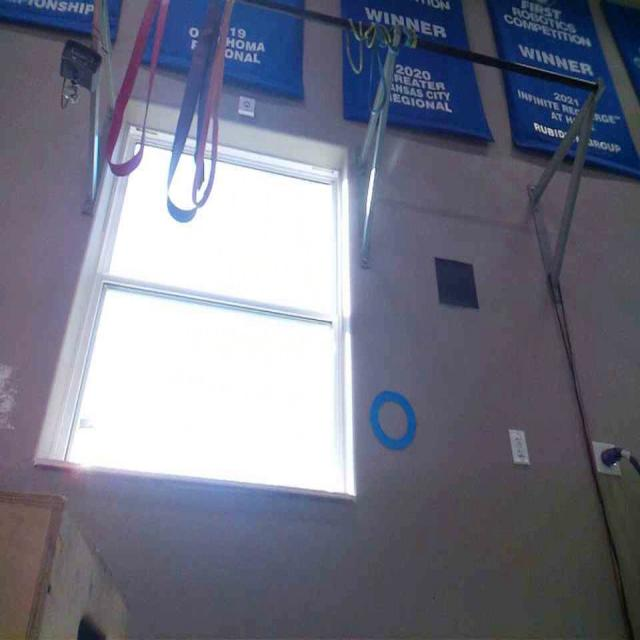ring_blue: (368, 388, 417, 450)
square_black: (434, 258, 479, 308)
